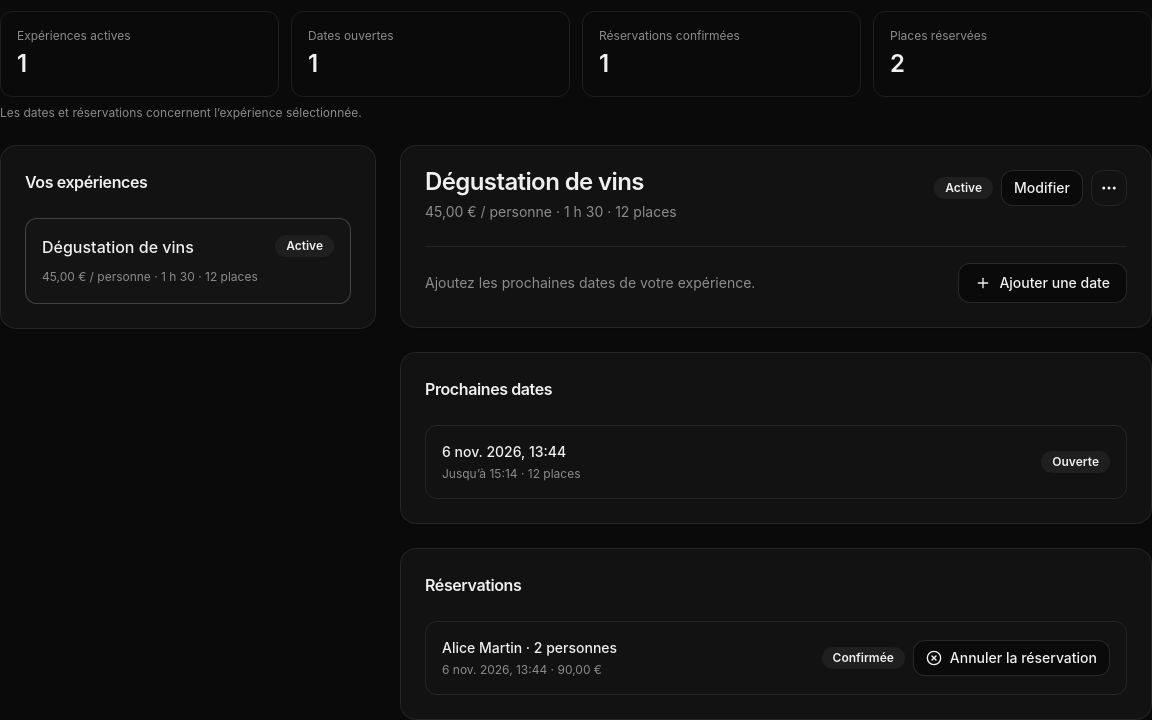
ExperiencesPage › annule une réservation et garde le message de capacité libérée
(page scrolled)
Click the button "Annuler la réservation" at (1011, 658), box left=913, top=640, right=1110, bottom=676
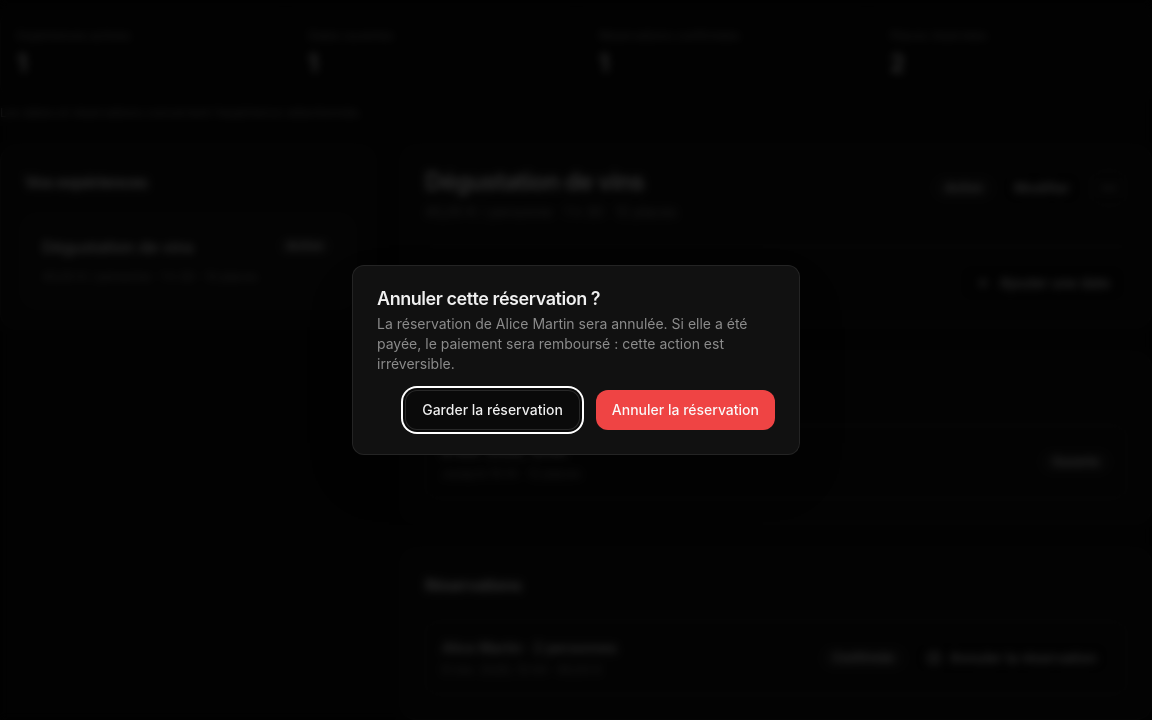
Expected: the dialog shows "Annuler cette réservation ?", left=377, top=288, right=600, bottom=309
Click the button "Annuler la réservation" at (685, 410), box left=596, top=390, right=775, bottom=430
(page scrolled)
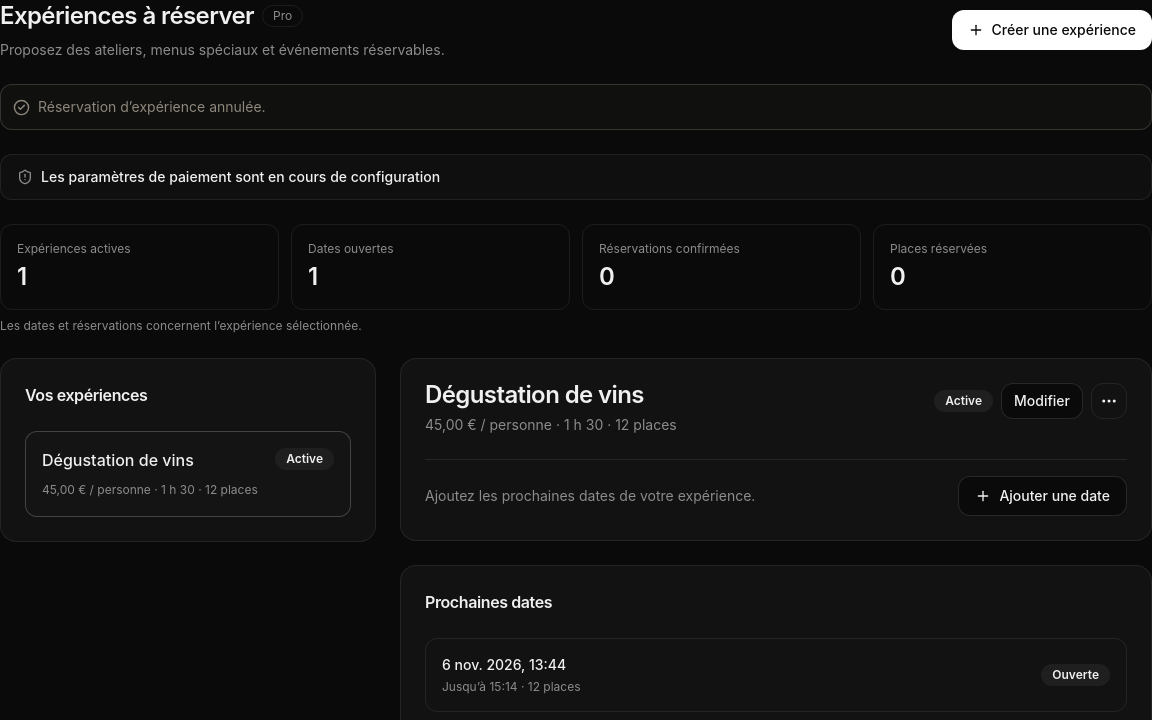
Expected: the text "Réservation d’expérience annulée." is shown, left=0, top=84, right=1151, bottom=130
